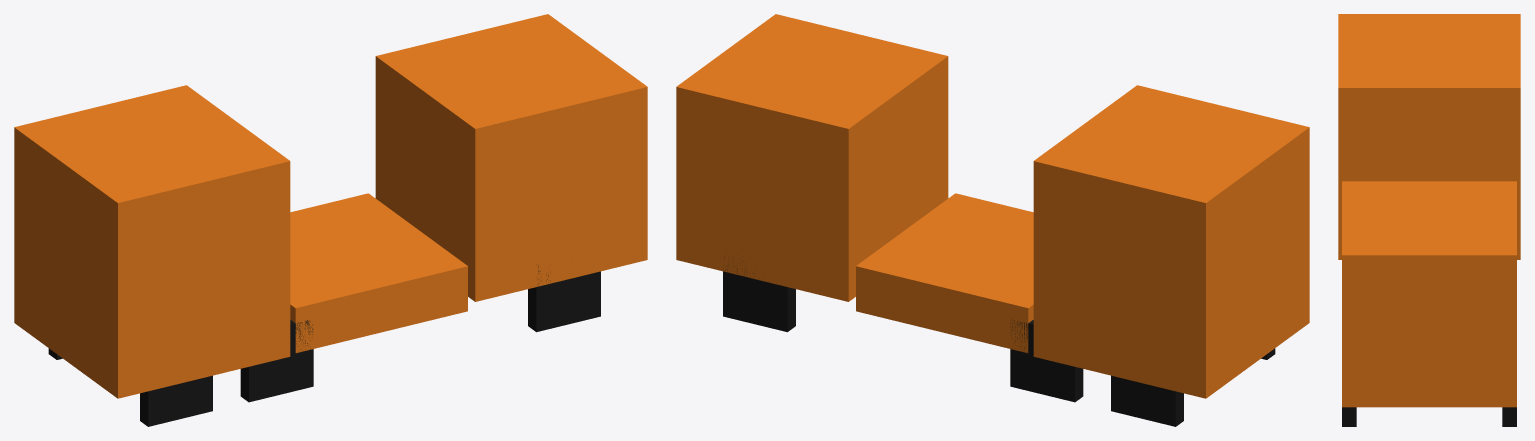
Rendered from blk_vehicle_truck.glb.
The picture shows the model from 3 angles, left to right: view 1: azimuth 30°, elevation 25°; view 2: azimuth 150°, elevation 25°; view 3: azimuth 270°, elevation 25°; orthographic projection. The views are drawn at different scales.
Visible parts, largest first — view 1: blk_vehicle_truck-col; view 2: blk_vehicle_truck-col; view 3: blk_vehicle_truck-col.
Part boxes in pixels (bbox=[...]): blk_vehicle_truck-col: bbox=[14, 14, 647, 426]; blk_vehicle_truck-col: bbox=[676, 14, 1309, 426]; blk_vehicle_truck-col: bbox=[1338, 14, 1520, 426].
Size of the model in its own units: 7.4 by 3.1 by 2.5.
